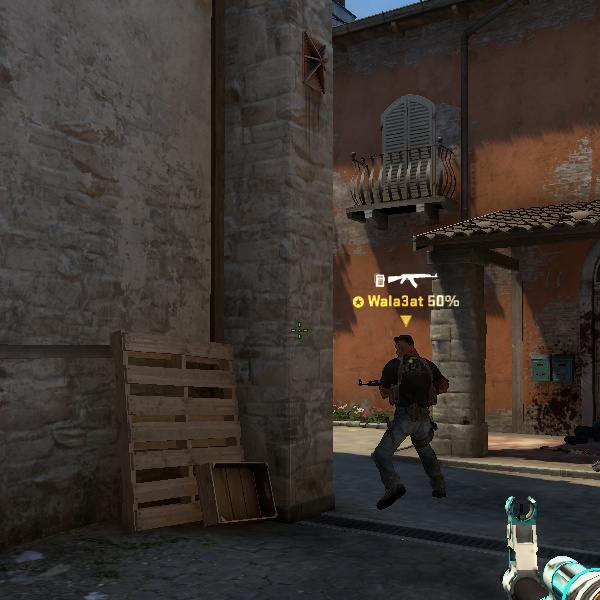t_body: (351, 329, 463, 516)
t_head: (386, 328, 425, 366)
